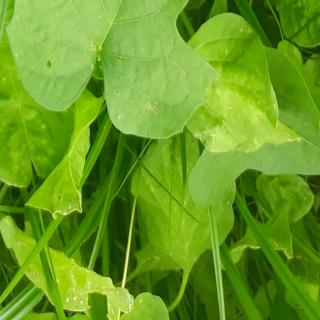virus_keriting: (284, 0, 320, 51)
